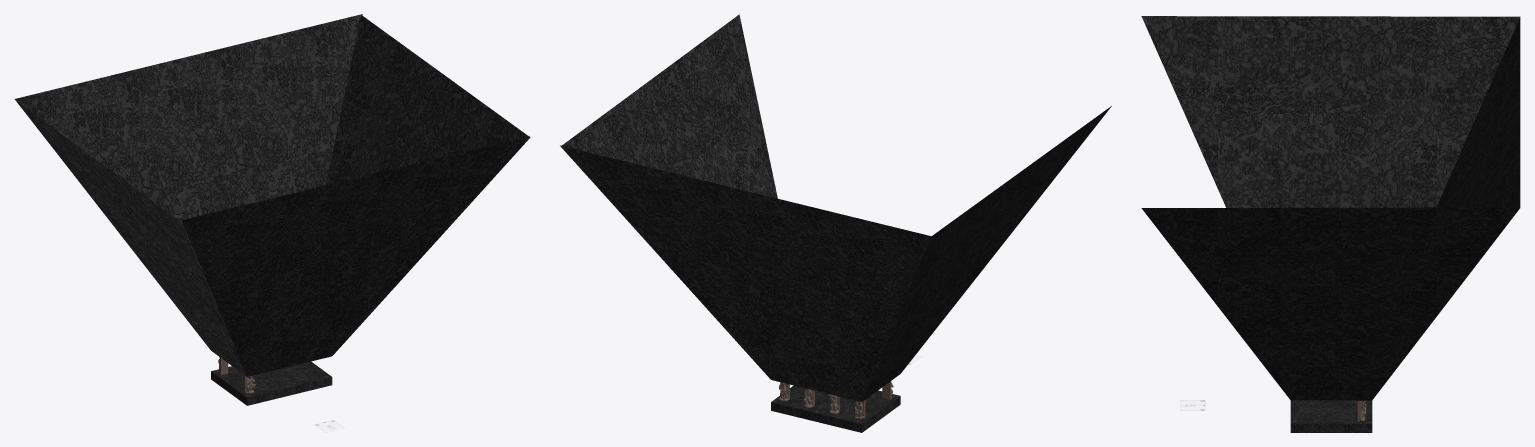
File: project2.glb
3 renders of one model, left to right at view 1: azimuth 30°, elevation 25°; view 2: azimuth 150°, elevation 25°; view 3: azimuth 270°, elevation 25°, orthographic. The views are drawn at different scales.
Parts seen in each view (by area): view 1: 02Borissza Gergely/Hornok Brigitta; view 2: 02Borissza Gergely/Hornok Brigitta; view 3: 02Borissza Gergely/Hornok Brigitta.
Boxes of the visible parts, box(x1,y1,x2,y2) form: 02Borissza Gergely/Hornok Brigitta: box(14, 14, 530, 405); 02Borissza Gergely/Hornok Brigitta: box(560, 14, 1111, 432); 02Borissza Gergely/Hornok Brigitta: box(1141, 16, 1520, 432).
Bounding box in the file's own units: 8.92 × 6.49 × 7.44.
3 materials, 3 textured.
